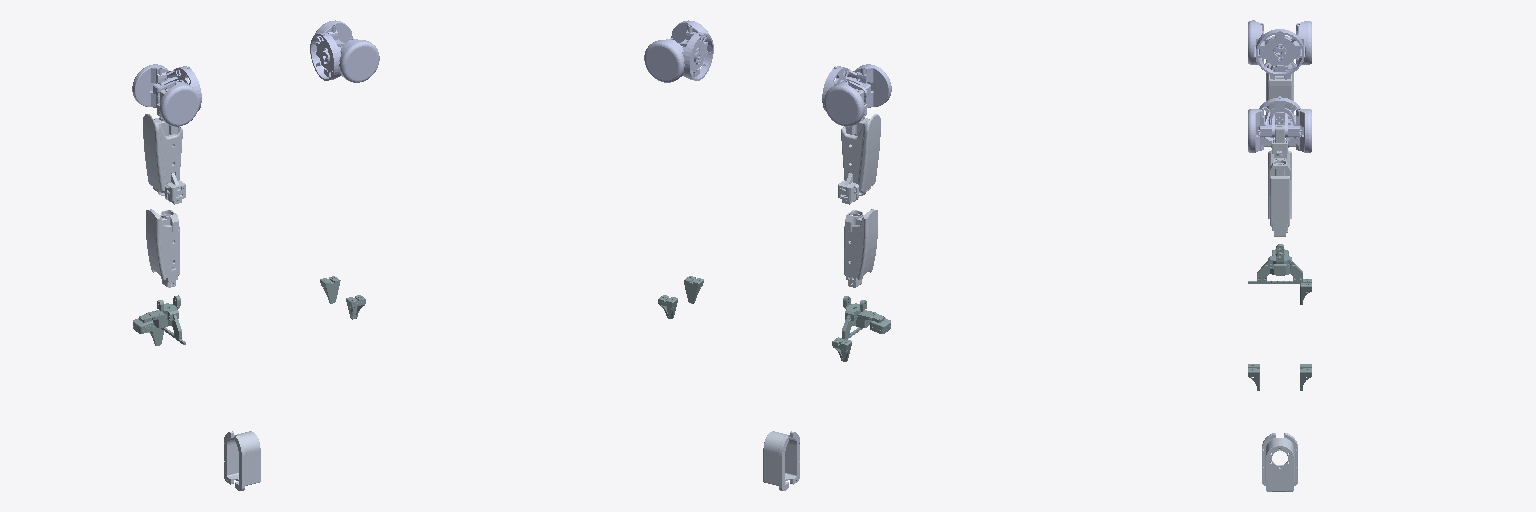
--- What the picture shows (computed from the rendered views, not written in the file) ---
3 views of the same robot in one strip: view 1: azimuth 30°, elevation 25°; view 2: azimuth 150°, elevation 25°; view 3: azimuth 270°, elevation 25° (orthographic).
Model Bessica-D_Covered with 22 links and 21 joints (14 revolute, 7 fixed), rooted at world, posed every joint at zero.
Visible links, largest first — view 1: left_arm_link1, right_arm_link1, right_arm_link3, right_arm_link5, base_link, right_arm_link7; view 2: left_arm_link1, right_arm_link1, right_arm_link3, right_arm_link5, base_link, right_arm_link7; view 3: right_arm_link1, left_arm_link1, right_arm_link5, base_link, right_arm_link7, right_arm_link3.
Link boxes in pixels (x1,y1,x2,y2): left_arm_link1: (310, 20, 379, 82); right_arm_link1: (132, 64, 201, 126); right_arm_link3: (143, 114, 185, 204); right_arm_link5: (146, 209, 179, 287); base_link: (224, 431, 260, 490); right_arm_link7: (133, 295, 185, 344); left_arm_link1: (644, 20, 713, 82); right_arm_link1: (822, 64, 891, 126); right_arm_link3: (838, 114, 880, 204); right_arm_link5: (844, 209, 877, 287); base_link: (763, 431, 799, 490); right_arm_link7: (839, 296, 890, 343); right_arm_link1: (1248, 20, 1311, 75); left_arm_link1: (1248, 96, 1311, 152); right_arm_link5: (1268, 150, 1291, 236); base_link: (1262, 433, 1297, 491); right_arm_link7: (1248, 244, 1310, 283); right_arm_link3: (1264, 60, 1295, 147).
Size in the robot's own frame: 0.6571 by 0.16 by 1.18 metres.
11 mesh visuals loaded from 21 distinct referenced files (11 binary STL); not drawn: 10 (reference not matched to a file when rendering).

The robot description file, URDF, robot "Bessica-D_Covered":
<?xml version="1.0" encoding="utf-8"?>
<!-- This URDF was automatically created by SolidWorks to URDF Exporter! Originally created by Stephen Brawner ([email redacted]) 
     Commit Version: 1.6.0-4-g7f85cfe  Build Version: 1.6.7995.38578
     For more information, please see http://wiki.ros.org/sw_urdf_exporter -->
<robot
  name="Bessica-D_Covered">
    <mujoco>
        <compiler meshdir="../../meshes/Bessica-D_v1_0/withCover/" balanceinertia="true" discardvisual="false" />
        <contact>
            <exclude body1="base_link" body2="right_arm_base_link" />
            <exclude body1="right_arm_base_link" body2="right_arm_link1" />
            <exclude body1="right_arm_link1" body2="right_arm_link2" />
            <exclude body1="right_arm_link2" body2="right_arm_link3" />
            <exclude body1="right_arm_link3" body2="right_arm_link4" />
            <exclude body1="right_arm_link4" body2="right_arm_link5" />
            <exclude body1="right_arm_link5" body2="right_arm_link6" />
            <exclude body1="right_arm_link6" body2="right_arm_link7" />
            <exclude body1="right_arm_link7" body2="right_arm_gripper_left_finger" />
            <exclude body1="right_arm_link7" body2="right_arm_gripper_right_finger" />
            <exclude body1="base_link" body2="left_arm_base_link" />
            <exclude body1="left_arm_base_link" body2="left_arm_link1" />
            <exclude body1="left_arm_link1" body2="left_arm_link2" />
            <exclude body1="left_arm_link2" body2="left_arm_link3" />
            <exclude body1="left_arm_link3" body2="left_arm_link4" />
            <exclude body1="left_arm_link4" body2="left_arm_link5" />
            <exclude body1="left_arm_link5" body2="left_arm_link6" />
            <exclude body1="left_arm_link6" body2="left_arm_link7" />
            <exclude body1="left_arm_link7" body2="left_arm_gripper_left_finger" />
            <exclude body1="left_arm_link7" body2="left_arm_gripper_right_finger" />
        </contact>
    </mujoco>
  
    <link name="world">
        <inertial>
            <origin xyz="0 0 0" rpy="0 0 0" />
            <mass value="0.001" />
            <inertia ixx="1e-6" ixy="0" ixz="0" iyy="1e-6" iyz="0" izz="1e-6" />
        </inertial>
    </link>
    
    <joint name="virtual_base_joint" type="fixed">
        <origin xyz="0 0 0" rpy="1.5707963267949 0 1.5707963267949" />
        <parent link="world" />
        <child link="base_link" />
        <axis xyz="0 0 1" />
        <limit lower="-3.14159" upper="3.14159" effort="0" velocity="0" />
    </joint>
  
  <link
    name="base_link">
    <inertial>
      <origin
        xyz="-0.00686956735898282 0.890581330479236 0.000830131965890445"
        rpy="0 0 0" />
      <mass
        value="2.26415289785668" />
      <inertia
        ixx="0.0565673675672396"
        ixy="-0.000382780288678294"
        ixz="2.41209579236837E-05"
        iyy="0.0173718580255862"
        iyz="4.80170083471487E-05"
        izz="0.0547709060687053" />
    </inertial>
    <visual>
      <origin
        xyz="0 0 0"
        rpy="0 0 0" />
      <geometry>
        <mesh
          filename="../../meshes/Bessica-D_v1_0/withCover/base_link.STL" />
      </geometry>
      <material
        name="">
        <color
          rgba="0.807843137254902 0.843137254901961 0.905882352941176 1" />
      </material>
    </visual>
    <collision>
      <origin
        xyz="0 0 0"
        rpy="0 0 0" />
      <geometry>
        <mesh
          filename="../../meshes/Bessica-D_v1_0/withCover/base_link.STL" />
      </geometry>
    </collision>
  </link>
  <link
    name="right_arm_base_link">
    <inertial>
      <origin
        xyz="-1.63473946052629E-05 0.00300662464882835 0.0103241813473425"
        rpy="0 0 0" />
      <mass
        value="0.760760214227773" />
      <inertia
        ixx="0.00140239578149964"
        ixy="1.37239403851161E-07"
        ixz="-1.42916142760694E-07"
        iyy="0.00146104425714734"
        iyz="-1.55314870823304E-05"
        izz="0.00186458776403139" />
    </inertial>
    <visual>
      <origin
        xyz="0 0 0"
        rpy="0 0 0" />
      <geometry>
        <mesh
          filename="../../meshes/Bessica-D_v1_0/withCover/right_arm_base_link.STL" />
      </geometry>
      <material
        name="">
        <color
          rgba="0.592156862745098 0.666666666666667 0.682352941176471 1" />
      </material>
    </visual>
    <collision>
      <origin
        xyz="0 0 0"
        rpy="0 0 0" />
      <geometry>
        <mesh
          filename="../../meshes/Bessica-D_v1_0/withCover/right_arm_base_link.STL" />
      </geometry>
    </collision>
  </link>
  <joint
    name="right_arm_base_joint"
    type="fixed">
    <origin
      xyz="0 1.01500000066667 -0.1"
      rpy="3.14159265358979 0 0" />
    <parent
      link="base_link" />
    <child
      link="right_arm_base_link" />
    <axis
      xyz="0 0 1" />
  </joint>
  <link
    name="right_arm_link1">
    <inertial>
      <origin
        xyz="-3.24276141824193E-05 3.91803068802886E-05 -0.0169208459339275"
        rpy="0 0 0" />
      <mass
        value="0.315733985052084" />
      <inertia
        ixx="0.000355333103579861"
        ixy="8.96367160414748E-07"
        ixz="-1.12252279070921E-06"
        iyy="0.000358749782128435"
        iyz="-4.11549901875641E-07"
        izz="0.000465495761293342" />
    </inertial>
    <visual>
      <origin
        xyz="0 0 0"
        rpy="0 0 0" />
      <geometry>
        <mesh
          filename="../../meshes/Bessica-D_v1_0/withCover/right_arm_link1.STL" />
      </geometry>
      <material
        name="">
        <color
          rgba="0.796078431372549 0.823529411764706 0.937254901960784 1" />
      </material>
    </visual>
    <collision>
      <origin
        xyz="0 0 0"
        rpy="0 0 0" />
      <geometry>
        <mesh
          filename="../../meshes/Bessica-D_v1_0/withCover/right_arm_link1.STL" />
      </geometry>
    </collision>
  </link>
  <joint
    name="right_arm_joint1"
    type="revolute">
    <origin
      xyz="0 0 0.1145"
      rpy="3.14159265358979 0 0" />
    <parent
      link="right_arm_base_link" />
    <child
      link="right_arm_link1" />
    <axis
      xyz="0 0 -1" />
    <limit
      lower="-2.14"
      upper="2.14"
      effort="5"
      velocity="12" />
  </joint>
  <link
    name="right_arm_link2">
    <inertial>
      <origin
        xyz="0.0294208671216199 0.000476964264630231 0.000518958900196765"
        rpy="0 0 0" />
      <mass
        value="0.0501482304791557" />
      <inertia
        ixx="7.68324123453962E-06"
        ixy="5.7606063677509E-07"
        ixz="-1.43192461618645E-06"
        iyy="1.62270247131466E-05"
        iyz="-1.34505028400494E-08"
        izz="1.55418254850872E-05" />
    </inertial>
    <visual>
      <origin
        xyz="0 0 0"
        rpy="0 0 0" />
      <geometry>
        <mesh
          filename="../../meshes/Bessica-D_v1_0/withCover/right_arm_link2.STL" />
      </geometry>
      <material
        name="">
        <color
          rgba="0.807843137254902 0.843137254901961 0.905882352941176 1" />
      </material>
    </visual>
    <collision>
      <origin
        xyz="0 0 0"
        rpy="0 0 0" />
      <geometry>
        <mesh
          filename="../../meshes/Bessica-D_v1_0/withCover/right_arm_link2.STL" />
      </geometry>
    </collision>
  </link>
  <joint
    name="right_arm_joint2"
    type="revolute">
    <origin
      xyz="0 0 -0.0428699999999988"
      rpy="-1.5707963267949 0 -1.57079639523237" />
    <parent
      link="right_arm_link1" />
    <child
      link="right_arm_link2" />
    <axis
      xyz="0 0 1" />
    <limit
      lower="-2.14"
      upper="2.14"
      effort="5"
      velocity="12" />
  </joint>
  <link
    name="right_arm_link3">
    <inertial>
      <origin
        xyz="-0.00598311053655232 -4.94634699967216E-05 -0.106126403545387"
        rpy="0 0 0" />
      <mass
        value="0.368447310994795" />
      <inertia
        ixx="0.000671085691586073"
        ixy="-1.46838977037301E-08"
        ixz="3.24538604462503E-05"
        iyy="0.000603424141732237"
        iyz="-7.1360929371316E-08"
        izz="0.000364264970290165" />
    </inertial>
    <visual>
      <origin
        xyz="0 0 0"
        rpy="0 0 0" />
      <geometry>
        <mesh
          filename="../../meshes/Bessica-D_v1_0/withCover/right_arm_link3.STL" />
      </geometry>
      <material
        name="">
        <color
          rgba="0.807843137254902 0.843137254901961 0.905882352941176 1" />
      </material>
    </visual>
    <collision>
      <origin
        xyz="0 0 0"
        rpy="0 0 0" />
      <geometry>
        <mesh
          filename="../../meshes/Bessica-D_v1_0/withCover/right_arm_link3.STL" />
      </geometry>
    </collision>
  </link>
  <joint
    name="right_arm_joint3"
    type="revolute">
    <origin
      xyz="0.0657499999999946 -9.99999999982126E-05 0.000400000000008029"
      rpy="1.5707963267949 0 -1.5707963267949" />
    <parent
      link="right_arm_link2" />
    <child
      link="right_arm_link3" />
    <axis
      xyz="0 0 -1" />
    <limit
      lower="-2.14"
      upper="2.14"
      effort="5"
      velocity="12" />
  </joint>
  <link
    name="right_arm_link4">
    <inertial>
      <origin
        xyz="-0.000541938878740711 0.028405806197065 0.00037034723538648"
        rpy="0 0 0" />
      <mass
        value="0.048007139115809" />
      <inertia
        ixx="1.64141913891154E-05"
        ixy="-5.7845673769135E-07"
        ixz="9.62946752549805E-09"
        iyy="7.54093815008549E-06"
        iyz="-1.52193904000396E-06"
        izz="1.55133391025037E-05" />
    </inertial>
    <visual>
      <origin
        xyz="0 0 0"
        rpy="0 0 0" />
      <geometry>
        <mesh
          filename="../../meshes/Bessica-D_v1_0/withCover/right_arm_link4.STL" />
      </geometry>
      <material
        name="">
        <color
          rgba="0.807843137254902 0.843137254901961 0.905882352941176 1" />
      </material>
    </visual>
    <collision>
      <origin
        xyz="0 0 0"
        rpy="0 0 0" />
      <geometry>
        <mesh
          filename="../../meshes/Bessica-D_v1_0/withCover/right_arm_link4.STL" />
      </geometry>
    </collision>
  </link>
  <joint
    name="right_arm_joint4"
    type="revolute">
    <origin
      xyz="0.0038400000000019 0 -0.200810000000001"
      rpy="-1.5707963267949 0 0" />
    <parent
      link="right_arm_link3" />
    <child
      link="right_arm_link4" />
    <axis
      xyz="0 0 1" />
    <limit
      lower="-2.14"
      upper="2.14"
      effort="5"
      velocity="12" />
  </joint>
  <link
    name="right_arm_link5">
    <inertial>
      <origin
        xyz="-0.00628108906282926 0.000212853518319031 -0.0715506440119273"
        rpy="0 0 0" />
      <mass
        value="0.207077276965592" />
      <inertia
        ixx="0.000306349644371532"
        ixy="-2.73142646222039E-08"
        ixz="3.50645300553179E-05"
        iyy="0.000340615575055482"
        iyz="-3.4069963126502E-07"
        izz="0.00014289189587793" />
    </inertial>
    <visual>
      <origin
        xyz="0 0 0"
        rpy="0 0 0" />
      <geometry>
        <mesh
          filename="../../meshes/Bessica-D_v1_0/withCover/right_arm_link5.STL" />
      </geometry>
      <material
        name="">
        <color
          rgba="0.807843137254902 0.843137254901961 0.905882352941176 1" />
      </material>
    </visual>
    <collision>
      <origin
        xyz="0 0 0"
        rpy="0 0 0" />
      <geometry>
        <mesh
          filename="../../meshes/Bessica-D_v1_0/withCover/right_arm_link5.STL" />
      </geometry>
    </collision>
  </link>
  <joint
    name="right_arm_joint5"
    type="revolute">
    <origin
      xyz="0 0.0657500000000004 -0.000199999999991113"
      rpy="1.5707963267949 0 0" />
    <parent
      link="right_arm_link4" />
    <child
      link="right_arm_link5" />
    <axis
      xyz="0 0 -1" />
    <limit
      lower="-2.14"
      upper="2.14"
      effort="5"
      velocity="12" />
  </joint>
  <link
    name="right_arm_link6">
    <inertial>
      <origin
        xyz="-0.000759194613479397 0.0240065523153095 5.58164371227406E-05"
        rpy="0 0 0" />
      <mass
        value="0.032562257471606" />
      <inertia
        ixx="1.56755999138173E-05"
        ixy="-1.61833904254136E-07"
        ixz="7.68617040822707E-09"
        iyy="1.27877692587564E-05"
        iyz="-2.84599247509887E-08"
        izz="9.25035078924417E-06" />
    </inertial>
    <visual>
      <origin
        xyz="0 0 0"
        rpy="0 0 0" />
      <geometry>
        <mesh
          filename="../../meshes/Bessica-D_v1_0/withCover/right_arm_link6.STL" />
      </geometry>
      <material
        name="">
        <color
          rgba="0.807843137254902 0.843137254901961 0.905882352941176 1" />
      </material>
    </visual>
    <collision>
      <origin
        xyz="0 0 0"
        rpy="0 0 0" />
      <geometry>
        <mesh
          filename="../../meshes/Bessica-D_v1_0/withCover/right_arm_link6.STL" />
      </geometry>
    </collision>
  </link>
  <joint
    name="right_arm_joint6"
    type="revolute">
    <origin
      xyz="0.00378999999999963 5.00000000001502E-05 -0.1788"
      rpy="-1.5707963267949 0 0" />
    <parent
      link="right_arm_link5" />
    <child
      link="right_arm_link6" />
    <axis
      xyz="0 0 1" />
    <limit
      lower="-2.14"
      upper="2.14"
      effort="5"
      velocity="12" />
  </joint>
  <link
    name="right_arm_link7">
    <inertial>
      <origin
        xyz="0.04102718226053 0.000104797361225431 0.0275632955071747"
        rpy="0 0 0" />
      <mass
        value="0.130617660751133" />
      <inertia
        ixx="9.37555144818837E-05"
        ixy="2.67295143379048E-08"
        ixz="3.95378371535058E-06"
        iyy="4.22371579950214E-05"
        iyz="-1.83444197754397E-08"
        izz="8.40584344645817E-05" />
    </inertial>
    <visual>
      <origin
        xyz="0 0 0"
        rpy="0 0 0" />
      <geometry>
        <mesh
          filename="../../meshes/Bessica-D_v1_0/withCover/right_arm_link7.STL" />
      </geometry>
      <material
        name="">
        <color
          rgba="0.592156862745098 0.666666666666667 0.682352941176471 1" />
      </material>
    </visual>
    <collision>
      <origin
        xyz="0 0 0"
        rpy="0 0 0" />
      <geometry>
        <mesh
          filename="../../meshes/Bessica-D_v1_0/withCover/right_arm_link7.STL" />
      </geometry>
    </collision>
  </link>
  <joint
    name="right_arm_joint7"
    type="revolute">
    <origin
      xyz="0.000100000000001432 0.0556 9.99999999912379E-05"
      rpy="-1.5707963267949 0 1.5707963267949" />
    <parent
      link="right_arm_link6" />
    <child
      link="right_arm_link7" />
    <axis
      xyz="0 0 1" />
    <limit
      lower="-2.14"
      upper="2.14"
      effort="5"
      velocity="12" />
  </joint>
  <link
    name="right_arm_gripper_left_finger">
    <inertial>
      <origin
        xyz="-0.0434086639321444 -1.54744198843648E-08 -0.0106596340364525"
        rpy="0 0 0" />
      <mass
        value="0.0256462690106051" />
      <inertia
        ixx="5.13427082501839E-06"
        ixy="2.44760154965618E-11"
        ixz="-1.26430153583773E-06"
        iyy="6.4682619660795E-06"
        iyz="-4.17571994431343E-13"
        izz="8.03606713459135E-06" />
    </inertial>
    <visual>
      <origin
        xyz="0 0 0"
        rpy="0 0 0" />
      <geometry>
        <mesh
          filename="../../meshes/Bessica-D_v1_0/withCover/right_arm_gripper_left_finger.STL" />
      </geometry>
      <material
        name="">
        <color
          rgba="0.592156862745098 0.666666666666667 0.682352941176471 1" />
      </material>
    </visual>
    <collision>
      <origin
        xyz="0 0 0"
        rpy="0 0 0" />
      <geometry>
        <mesh
          filename="../../meshes/Bessica-D_v1_0/withCover/right_arm_gripper_left_finger.STL" />
      </geometry>
    </collision>
  </link>
  <joint
    name="right_arm_gripper_joint1"
    type="fixed">
    <origin
      xyz="0.14128 0.0505 0.00015"
      rpy="1.5708 0 0" />
    <parent
      link="right_arm_link7" />
    <child
      link="right_arm_gripper_left_finger" />
    <axis
      xyz="0 0 1" />
    <limit
      lower="0"
      upper="-0.05"
      effort="5"
      velocity="12" />
  </joint>
  <link
    name="right_arm_gripper_right_finger">
    <inertial>
      <origin
        xyz="-0.0434086638781261 -1.5480945553259E-08 -0.0106596340340038"
        rpy="0 0 0" />
      <mass
        value="0.025646269050792" />
      <inertia
        ixx="5.1342708257315E-06"
        ixy="2.44818388663392E-11"
        ixz="-1.2643015375437E-06"
        iyy="6.4682620124843E-06"
        iyz="-4.1738122544891E-13"
        izz="8.03606718172597E-06" />
    </inertial>
    <visual>
      <origin
        xyz="0 0 0"
        rpy="0 0 0" />
      <geometry>
        <mesh
          filename="../../meshes/Bessica-D_v1_0/withCover/right_arm_gripper_right_finger.STL" />
      </geometry>
      <material
        name="">
        <color
          rgba="0.592156862745098 0.666666666666667 0.682352941176471 1" />
      </material>
    </visual>
    <collision>
      <origin
        xyz="0 0 0"
        rpy="0 0 0" />
      <geometry>
        <mesh
          filename="../../meshes/Bessica-D_v1_0/withCover/right_arm_gripper_right_finger.STL" />
      </geometry>
    </collision>
  </link>
  <joint
    name="right_arm_gripper_joint2"
    type="fixed">
    <origin
      xyz="0.14128 -0.0505 0.00015"
      rpy="-1.5708 0 0" />
    <parent
      link="right_arm_link7" />
    <child
      link="right_arm_gripper_right_finger" />
    <axis
      xyz="0 0 1" />
    <limit
      lower="0.05"
      upper="0"
      effort="5"
      velocity="12" />
  </joint>
  <link
    name="left_arm_base_link">
    <inertial>
      <origin
        xyz="1.6347367480093E-05 -0.0030066248113288 0.0103241813473416"
        rpy="0 0 0" />
      <mass
        value="0.760760214227773" />
      <inertia
        ixx="0.00140239578149964"
        ixy="1.37239403851344E-07"
        ixz="1.42916142950245E-07"
        iyy="0.00146104425714734"
        iyz="1.55314878062967E-05"
        izz="0.00186458776403139" />
    </inertial>
    <visual>
      <origin
        xyz="0 0 0"
        rpy="0 0 0" />
      <geometry>
        <mesh
          filename="../../meshes/Bessica-D_v1_0/withCover/left_arm_base_link.STL" />
      </geometry>
      <material
        name="">
        <color
          rgba="0.592156862745098 0.666666666666667 0.682352941176471 1" />
      </material>
    </visual>
    <collision>
      <origin
        xyz="0 0 0"
        rpy="0 0 0" />
      <geometry>
        <mesh
          filename="../../meshes/Bessica-D_v1_0/withCover/left_arm_base_link.STL" />
      </geometry>
    </collision>
  </link>
  <joint
    name="left_arm_base_joint"
    type="fixed">
    <origin
      xyz="0 1.01500000066667 0.1"
      rpy="0 0 0" />
    <parent
      link="base_link" />
    <child
      link="left_arm_base_link" />
    <axis
      xyz="0 0 1" />
  </joint>
  <link
    name="left_arm_link1">
    <inertial>
      <origin
        xyz="3.24320720247566E-05 3.91834540558715E-05 0.0169208474669632"
        rpy="0 0 0" />
      <mass
        value="0.315733967014059" />
      <inertia
        ixx="0.000355333070357469"
        ixy="-8.96325231892337E-07"
        ixz="-1.1225145454184E-06"
        iyy="0.00035874974677796"
        iyz="4.1155577214377E-07"
        izz="0.000465495695973106" />
    </inertial>
    <visual>
      <origin
        xyz="0 0 0"
        rpy="0 0 0" />
      <geometry>
        <mesh
          filename="../../meshes/Bessica-D_v1_0/withCover/left_arm_link1.STL" />
      </geometry>
      <material
        name="">
        <color
          rgba="0.796078431372549 0.823529411764706 0.937254901960784 1" />
      </material>
    </visual>
    <collision>
      <origin
        xyz="0 0 0"
        rpy="0 0 0" />
      <geometry>
        <mesh
          filename="../../meshes/Bessica-D_v1_0/withCover/left_arm_link1.STL" />
      </geometry>
    </collision>
  </link>
  <joint
    name="left_arm_joint1"
    type="revolute">
    <origin
      xyz="0 0 0.114499999999998"
      rpy="0 0 0" />
    <parent
      link="left_arm_base_link" />
    <child
      link="left_arm_link1" />
    <axis
      xyz="0 0 -1" />
    <limit
      lower="-2.14"
      upper="2.14"
      effort="5"
      velocity="12" />
  </joint>
  <link
    name="left_arm_link2">
    <inertial>
      <origin
        xyz="0.0294208671216257 0.000476964264629065 0.000518958900196698"
        rpy="0 0 0" />
      <mass
        value="0.0501482304791557" />
      <inertia
        ixx="7.68324123453963E-06"
        ixy="5.76060636775069E-07"
        ixz="-1.43192461618646E-06"
        iyy="1.62270247131466E-05"
        iyz="-1.3450502840051E-08"
        izz="1.55418254850871E-05" />
    </inertial>
    <visual>
      <origin
        xyz="0 0 0"
        rpy="0 0 0" />
      <geometry>
        <mesh
          filename="../../meshes/Bessica-D_v1_0/withCover/left_arm_link2.STL" />
      </geometry>
      <material
        name="">
        <color
          rgba="0.807843137254902 0.843137254901961 0.905882352941176 1" />
      </material>
    </visual>
    <collision>
      <origin
        xyz="0 0 0"
        rpy="0 0 0" />
      <geometry>
        <mesh
          filename="../../meshes/Bessica-D_v1_0/withCover/left_arm_link2.STL" />
      </geometry>
    </collision>
  </link>
  <joint
    name="left_arm_joint2"
    type="revolute">
    <origin
      xyz="0 0 0.04287"
      rpy="1.5707963267949 0 -1.5707963267949" />
    <parent
      link="left_arm_link1" />
    <child
      link="left_arm_link2" />
    <axis
      xyz="0 0 1" />
    <limit
      lower="-2.14"
      upper="2.14"
      effort="5"
      velocity="12" />
  </joint>
  <link
    name="left_arm_link3">
    <inertial>
      <origin
        xyz="-0.0060702147953125 -7.96524461245867E-05 0.105091706185267"
        rpy="0 0 0" />
      <mass
        value="0.373333384305912" />
      <inertia
        ixx="0.000671566221860179"
        ixy="1.39421630177045E-08"
        ixz="-3.24356386154671E-05"
        iyy="0.000604631227941289"
        iyz="-7.14064799214061E-08"
        izz="0.000365833327783667" />
    </inertial>
    <visual>
      <origin
        xyz="0 0 0"
        rpy="0 0 0" />
      <geometry>
        <mesh
          filename="../../meshes/Bessica-D_v1_0/withCover/left_arm_link3.STL" />
      </geometry>
      <material
        name="">
        <color
          rgba="0.807843137254902 0.843137254901961 0.905882352941176 1" />
      </material>
    </visual>
    <collision>
      <origin
        xyz="0 0 0"
        rpy="0 0 0" />
      <geometry>
        <mesh
          filename="../../meshes/Bessica-D_v1_0/withCover/left_arm_link3.STL" />
      </geometry>
    </collision>
  </link>
  <joint
    name="left_arm_joint3"
    type="revolute">
    <origin
      xyz="0.0657500000000003 -9.99999999993784E-05 0.000400000000008027"
      rpy="-1.57079632679489 0 -1.5707963267949" />
    <parent
      link="left_arm_link2" />
    <child
      link="left_arm_link3" />
    <axis
      xyz="0 0 -1" />
    <limit
      lower="-2.14"
      upper="2.14"
      effort="5"
      velocity="12" />
  </joint>
  <link
    name="left_arm_link4">
    <inertial>
      <origin
        xyz="-0.000541938878777959 0.0284058061970334 0.000370347235458184"
        rpy="0 0 0" />
      <mass
        value="0.0480071391155924" />
      <inertia
        ixx="1.64141913890447E-05"
        ixy="-5.78456737665755E-07"
        ixz="9.62946750607028E-09"
        iyy="7.54093815004732E-06"
        iyz="-1.52193904003987E-06"
        izz="1.55133391024454E-05" />
    </inertial>
    <visual>
      <origin
        xyz="0 0 0"
        rpy="0 0 0" />
      <geometry>
        <mesh
          filename="../../meshes/Bessica-D_v1_0/withCover/left_arm_link4.STL" />
      </geometry>
      <material
        name="">
        <color
          rgba="0.807843137254902 0.843137254901961 0.905882352941176 1" />
      </material>
    </visual>
    <collision>
      <origin
        xyz="0 0 0"
        rpy="0 0 0" />
      <geometry>
        <mesh
          filename="../../meshes/Bessica-D_v1_0/withCover/left_arm_link4.STL" />
      </geometry>
    </collision>
  </link>
  <joint
    name="left_arm_joint4"
    type="revolute">
    <origin
      xyz="0.00384000000000162 0 0.200810000000001"
      rpy="1.5707963267949 0 0" />
    <parent
      link="left_arm_link3" />
    <child
      link="left_arm_link4" />
    <axis
      xyz="0 0 1" />
    <limit
      lower="-2.14"
      upper="2.14"
      effort="5"
      velocity="12" />
  </joint>
  <link
    name="left_arm_link5">
    <inertial>
      <origin
        xyz="-0.00625732698401227 -0.000212853509062332 0.0763030661406436"
        rpy="0 0 0" />
      <mass
        value="0.207077278840904" />
      <inertia
        ixx="0.000306349647850934"
        ixy="2.7314306510659E-08"
        ixz="-3.50645300567238E-05"
        iyy="0.000340615578251791"
        iyz="-3.40699273484177E-07"
        izz="0.000142891896035611" />
    </inertial>
    <visual>
      <origin
        xyz="0 0 0"
        rpy="0 0 0" />
      <geometry>
        <mesh
          filename="../../meshes/Bessica-D_v1_0/withCover/left_arm_link5.STL" />
      </geometry>
      <material
        name="">
        <color
          rgba="0.807843137254902 0.843137254901961 0.905882352941176 1" />
      </material>
    </visual>
    <collision>
      <origin
        xyz="0 0 0"
        rpy="0 0 0" />
      <geometry>
        <mesh
          filename="../../meshes/Bessica-D_v1_0/withCover/left_arm_link5.STL" />
      </geometry>
    </collision>
  </link>
  <joint
    name="left_arm_joint5"
    type="revolute">
    <origin
      xyz="0 0.0657500000000002 -0.000199999999991251"
      rpy="-1.5707963267949 0 0" />
    <parent
      link="left_arm_link4" />
    <child
      link="left_arm_link5" />
    <axis
      xyz="0 0 -1" />
    <limit
      lower="-2.14"
      upper="2.14"
      effort="5"
      velocity="12" />
  </joint>
  <link
    name="left_arm_link6">
    <inertial>
      <origin
        xyz="-0.000759194613499686 0.0240065523153284 5.58164371395042E-05"
        rpy="0 0 0" />
      <mass
        value="0.0325622574716532" />
      <inertia
        ixx="1.56755999138205E-05"
        ixy="-1.61833904254957E-07"
        ixz="7.68617040985395E-09"
        iyy="1.27877692587645E-05"
        iyz="-2.84599247464665E-08"
        izz="9.25035078924005E-06" />
    </inertial>
    <visual>
      <origin
        xyz="0 0 0"
        rpy="0 0 0" />
      <geometry>
        <mesh
          filename="../../meshes/Bessica-D_v1_0/withCover/left_arm_link6.STL" />
      </geometry>
      <material
        name="">
        <color
          rgba="0.807843137254902 0.843137254901961 0.905882352941176 1" />
      </material>
    </visual>
    <collision>
      <origin
        xyz="0 0 0"
        rpy="0 0 0" />
      <geometry>
        <mesh
          filename="../../meshes/Bessica-D_v1_0/withCover/left_arm_link6.STL" />
      </geometry>
    </collision>
  </link>
  <joint
    name="left_arm_joint6"
    type="revolute">
    <origin
      xyz="0.00378999999999965 -5.00000000000156E-05 0.1788"
      rpy="1.5707963267949 0 0" />
    <parent
      link="left_arm_link5" />
    <child
      link="left_arm_link6" />
    <axis
      xyz="0 0 1" />
    <limit
      lower="-2.14"
      upper="2.14"
      effort="5"
      velocity="12" />
  </joint>
  <link
    name="left_arm_link7">
    <inertial>
      <origin
        xyz="0.0408026549111316 0.000102206604270432 0.027163751131429"
        rpy="0 0 0" />
      <mass
        value="0.13423336431278" />
      <inertia
        ixx="9.48394067897506E-05"
        ixy="2.66849771326371E-08"
        ixz="3.97199050560553E-06"
        iyy="4.30798330610627E-05"
        iyz="-1.89333961836696E-08"
        izz="8.43835119906371E-05" />
    </inertial>
    <visual>
      <origin
        xyz="0 0 0"
        rpy="0 0 0" />
      <geometry>
        <mesh
          filename="../../meshes/Bessica-D_v1_0/withCover/left_arm_link7.STL" />
      </geometry>
      <material
        name="">
        <color
          rgba="0.592156862745098 0.666666666666667 0.682352941176471 1" />
      </material>
    </visual>
    <collision>
      <origin
        xyz="0 0 0"
        rpy="0 0 0" />
      <geometry>
        <mesh
          filename="../../meshes/Bessica-D_v1_0/withCover/left_arm_link7.STL" />
      </geometry>
    </collision>
  </link>
  <joint
    name="left_arm_joint7"
    type="revolute">
    <origin
      xyz="0.000100000000000044 0.0556 9.99999999912035E-05"
      rpy="-1.5707963267949 0 1.5707963267949" />
    <parent
      link="left_arm_link6" />
    <child
      link="left_arm_link7" />
    <axis
      xyz="0 0 1" />
    <limit
      lower="-2.14"
      upper="2.14"
      effort="5"
      velocity="12" />
  </joint>
  <link
    name="left_arm_gripper_left_finger">
    <inertial>
      <origin
        xyz="-0.0434086639321445 -1.54744199676315E-08 -0.0106596340364526"
        rpy="0 0 0" />
      <mass
        value="0.0256462690106051" />
      <inertia
        ixx="5.13427082501839E-06"
        ixy="2.44760154899645E-11"
        ixz="-1.26430153583774E-06"
        iyy="6.4682619660796E-06"
        iyz="-4.17572012406218E-13"
        izz="8.03606713459143E-06" />
    </inertial>
    <visual>
      <origin
        xyz="0 0 0"
        rpy="0 0 0" />
      <geometry>
        <mesh
          filename="../../meshes/Bessica-D_v1_0/withCover/left_arm_gripper_left_finger.STL" />
      </geometry>
      <material
        name="">
        <color
          rgba="0.592156862745098 0.666666666666667 0.682352941176471 1" />
      </material>
    </visual>
    <collision>
      <origin
        xyz="0 0 0"
        rpy="0 0 0" />
      <geometry>
        <mesh
          filename="../../meshes/Bessica-D_v1_0/withCover/left_arm_gripper_left_finger.STL" />
      </geometry>
    </collision>
  </link>
  <joint
    name="left_arm_gripper_joint1"
    type="fixed">
    <origin
      xyz="0.14128 0.0505 0.00015"
      rpy="1.5708 0 0" />
    <parent
      link="left_arm_link7" />
    <child
      link="left_arm_gripper_left_finger" />
    <axis
      xyz="0 0 1" />
    <limit
      lower="0.05"
      upper="0"
      effort="5"
      velocity="12" />
  </joint>
  <link
    name="left_arm_gripper_right_finger">
    <inertial>
      <origin
        xyz="-0.043408663918279 -1.54853544986899E-08 -0.0106596340357488"
        rpy="0 0 0" />
      <mass
        value="0.0256462690210739" />
      <inertia
        ixx="5.13427082531506E-06"
        ixy="2.44857931775954E-11"
        ixz="-1.26430153633701E-06"
        iyy="6.46826197781001E-06"
        iyz="-4.17267623737947E-13"
        izz="8.03606714660219E-06" />
    </inertial>
    <visual>
      <origin
        xyz="0 0 0"
        rpy="0 0 0" />
      <geometry>
        <mesh
          filename="../../meshes/Bessica-D_v1_0/withCover/left_arm_gripper_right_finger.STL" />
      </geometry>
      <material
        name="">
        <color
          rgba="0.592156862745098 0.666666666666667 0.682352941176471 1" />
      </material>
    </visual>
    <collision>
      <origin
        xyz="0 0 0"
        rpy="0 0 0" />
      <geometry>
        <mesh
          filename="../../meshes/Bessica-D_v1_0/withCover/left_arm_gripper_right_finger.STL" />
      </geometry>
    </collision>
  </link>
  <joint
    name="left_arm_gripper_joint2"
    type="fixed">
    <origin
      xyz="0.14128 -0.0505 0.00015"
      rpy="-1.5708 0 0" />
    <parent
      link="left_arm_link7" />
    <child
      link="left_arm_gripper_right_finger" />
    <axis
      xyz="0 0 1" />
    <limit
      lower="0"
      upper="-0.05"
      effort="5"
      velocity="12" />
  </joint>
</robot>
